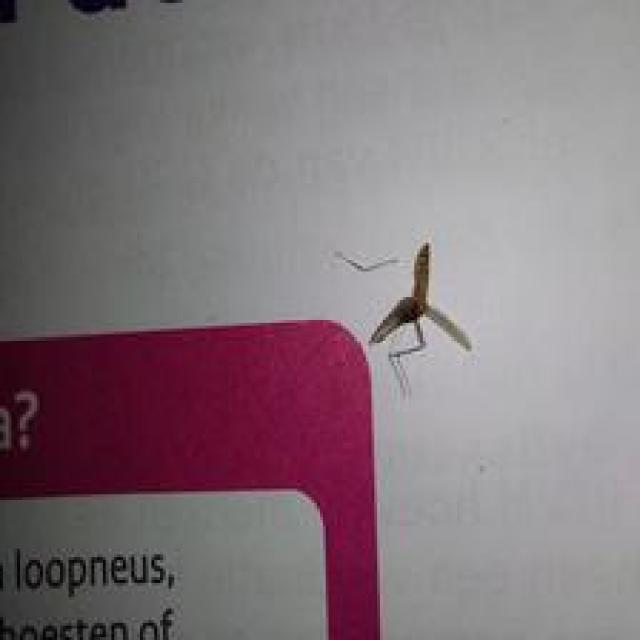Culex: (334, 238, 474, 398)
